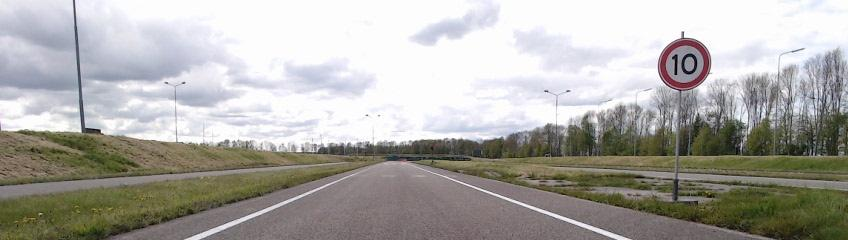Speed-limit-10km-h-: (657, 38, 712, 91)
